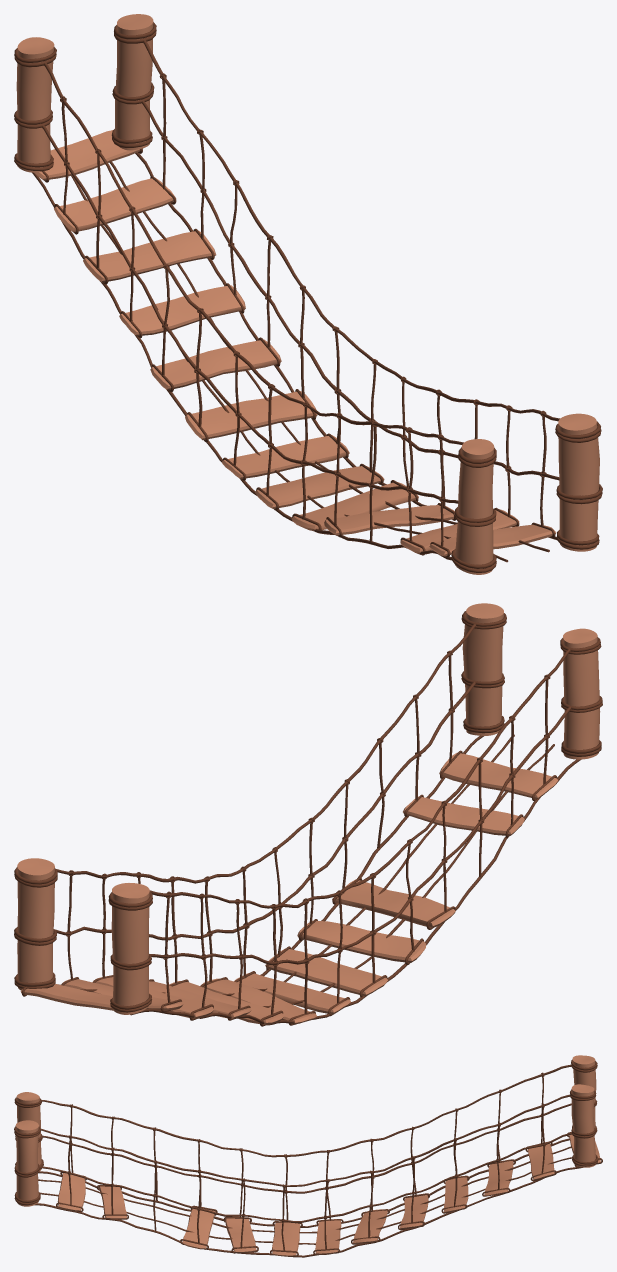
Rendered from bridge.fbx.
The picture shows the model from 3 angles, top to bottom: view 1: azimuth 30°, elevation 25°; view 2: azimuth 150°, elevation 25°; view 3: azimuth 270°, elevation 25°; orthographic projection. The views are drawn at different scales.
Parts seen in each view (by area): view 1: Bridge Curve; view 2: Bridge Curve; view 3: Bridge Curve.
Part boxes in pixels (x1=…): Bridge Curve: x1=14, y1=14, x2=602, y2=574; Bridge Curve: x1=14, y1=603, x2=602, y2=1026; Bridge Curve: x1=14, y1=1055, x2=602, y2=1257.
Bounding box in the file's own units: 133 × 236 × 733.
